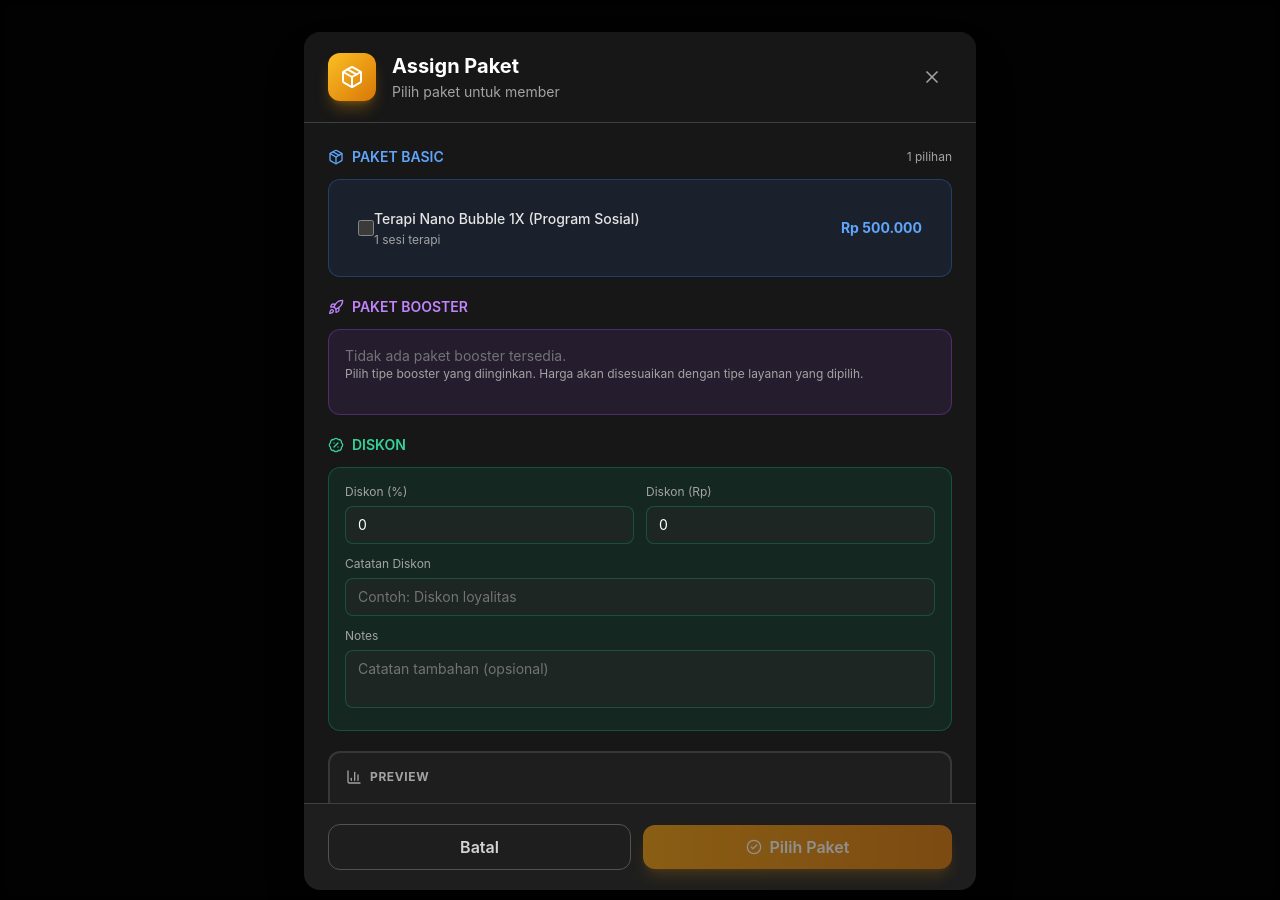
it: AssignPackageModal package assignment › allows Program Sosial to be assigned directly using its branch price
Expected: the text "Rp 500.000" is shown, [841,218,922,238]
Click the checkbox labelled "Terapi Nano Bubble 1X (Program Sosial)" at point(366, 228), box [358,220,374,236]
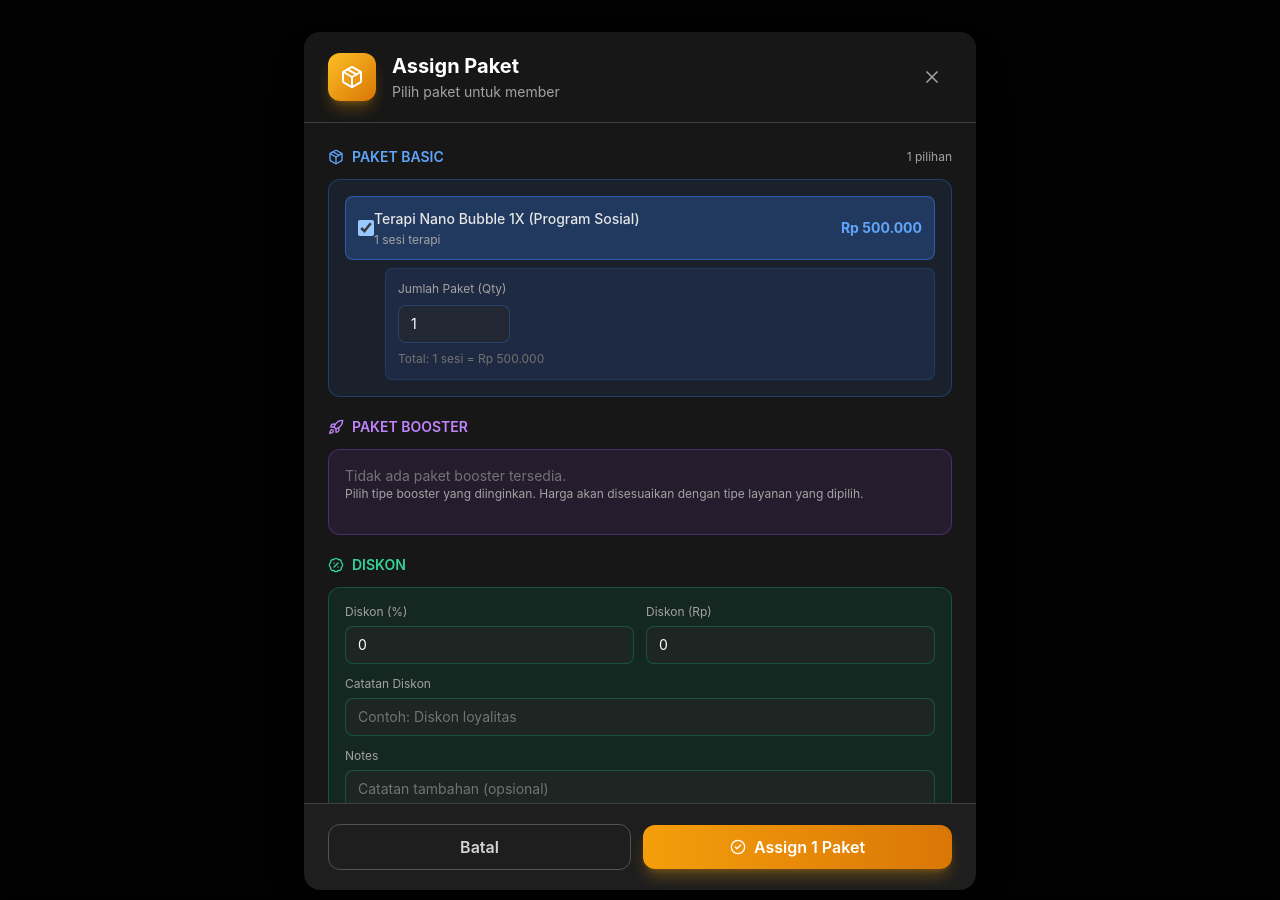
Now the button "Assign 1 Paket" is enabled, box [643,825,952,869]
